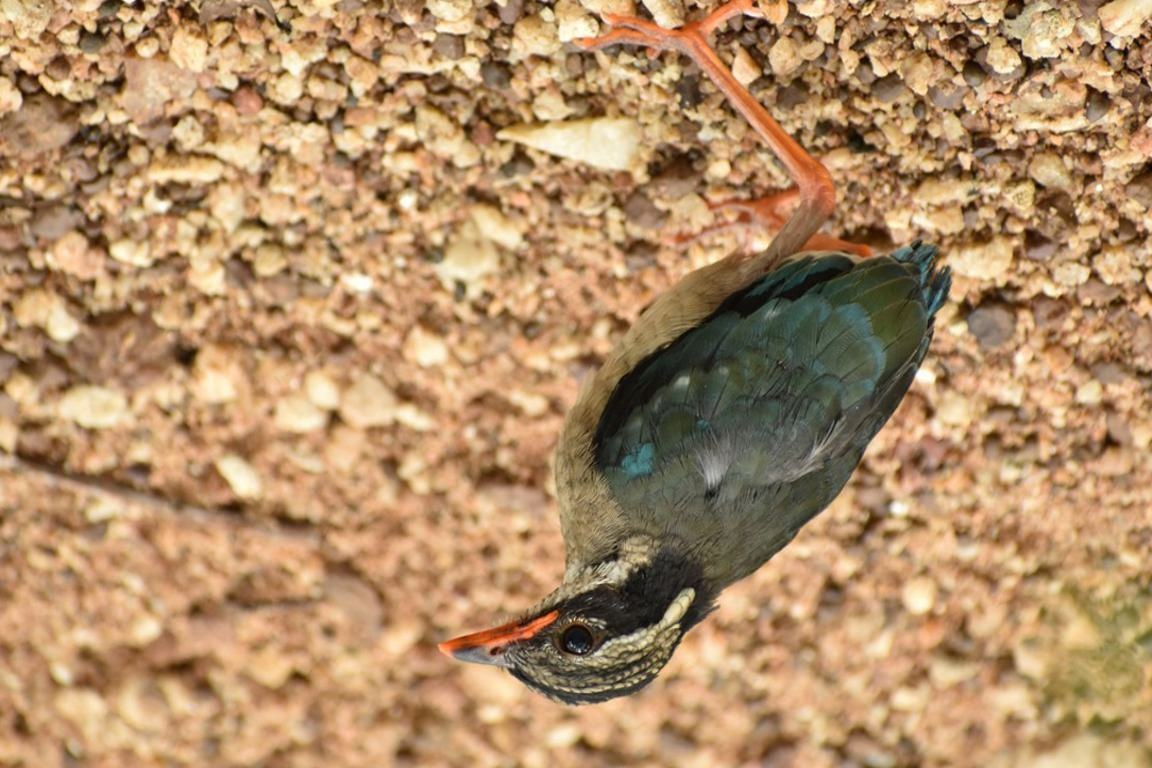pitta: (413, 156, 944, 714)
